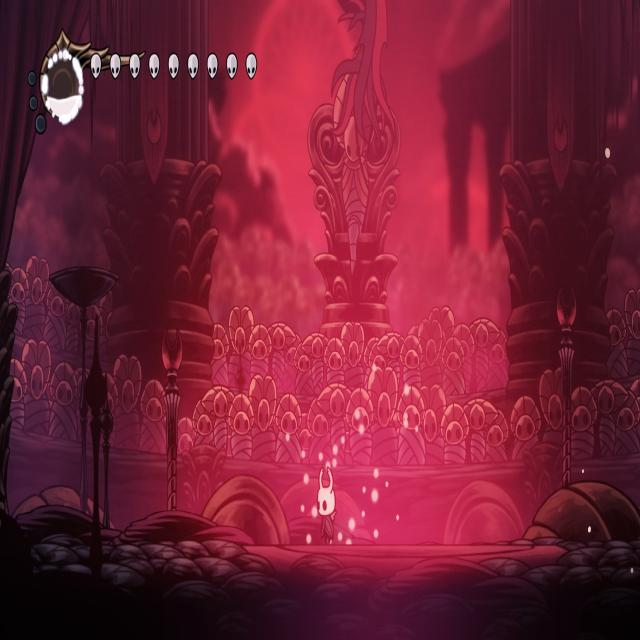Player: (314, 458, 338, 549)
